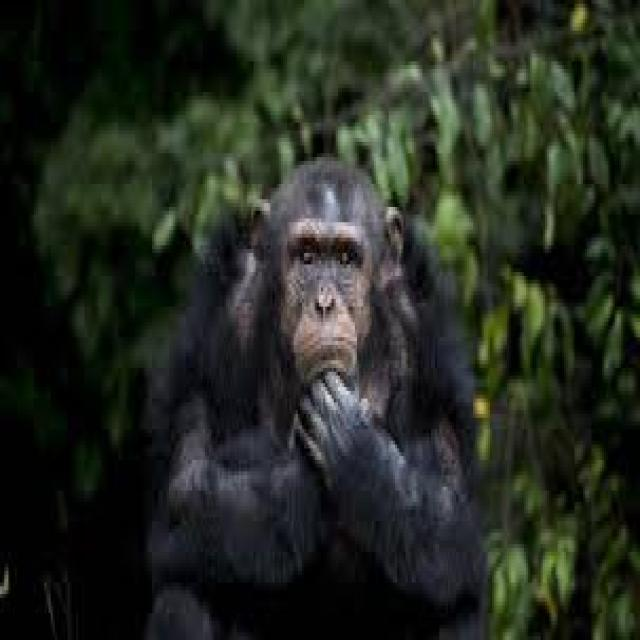Chimpanzee: (146, 166, 481, 628)
